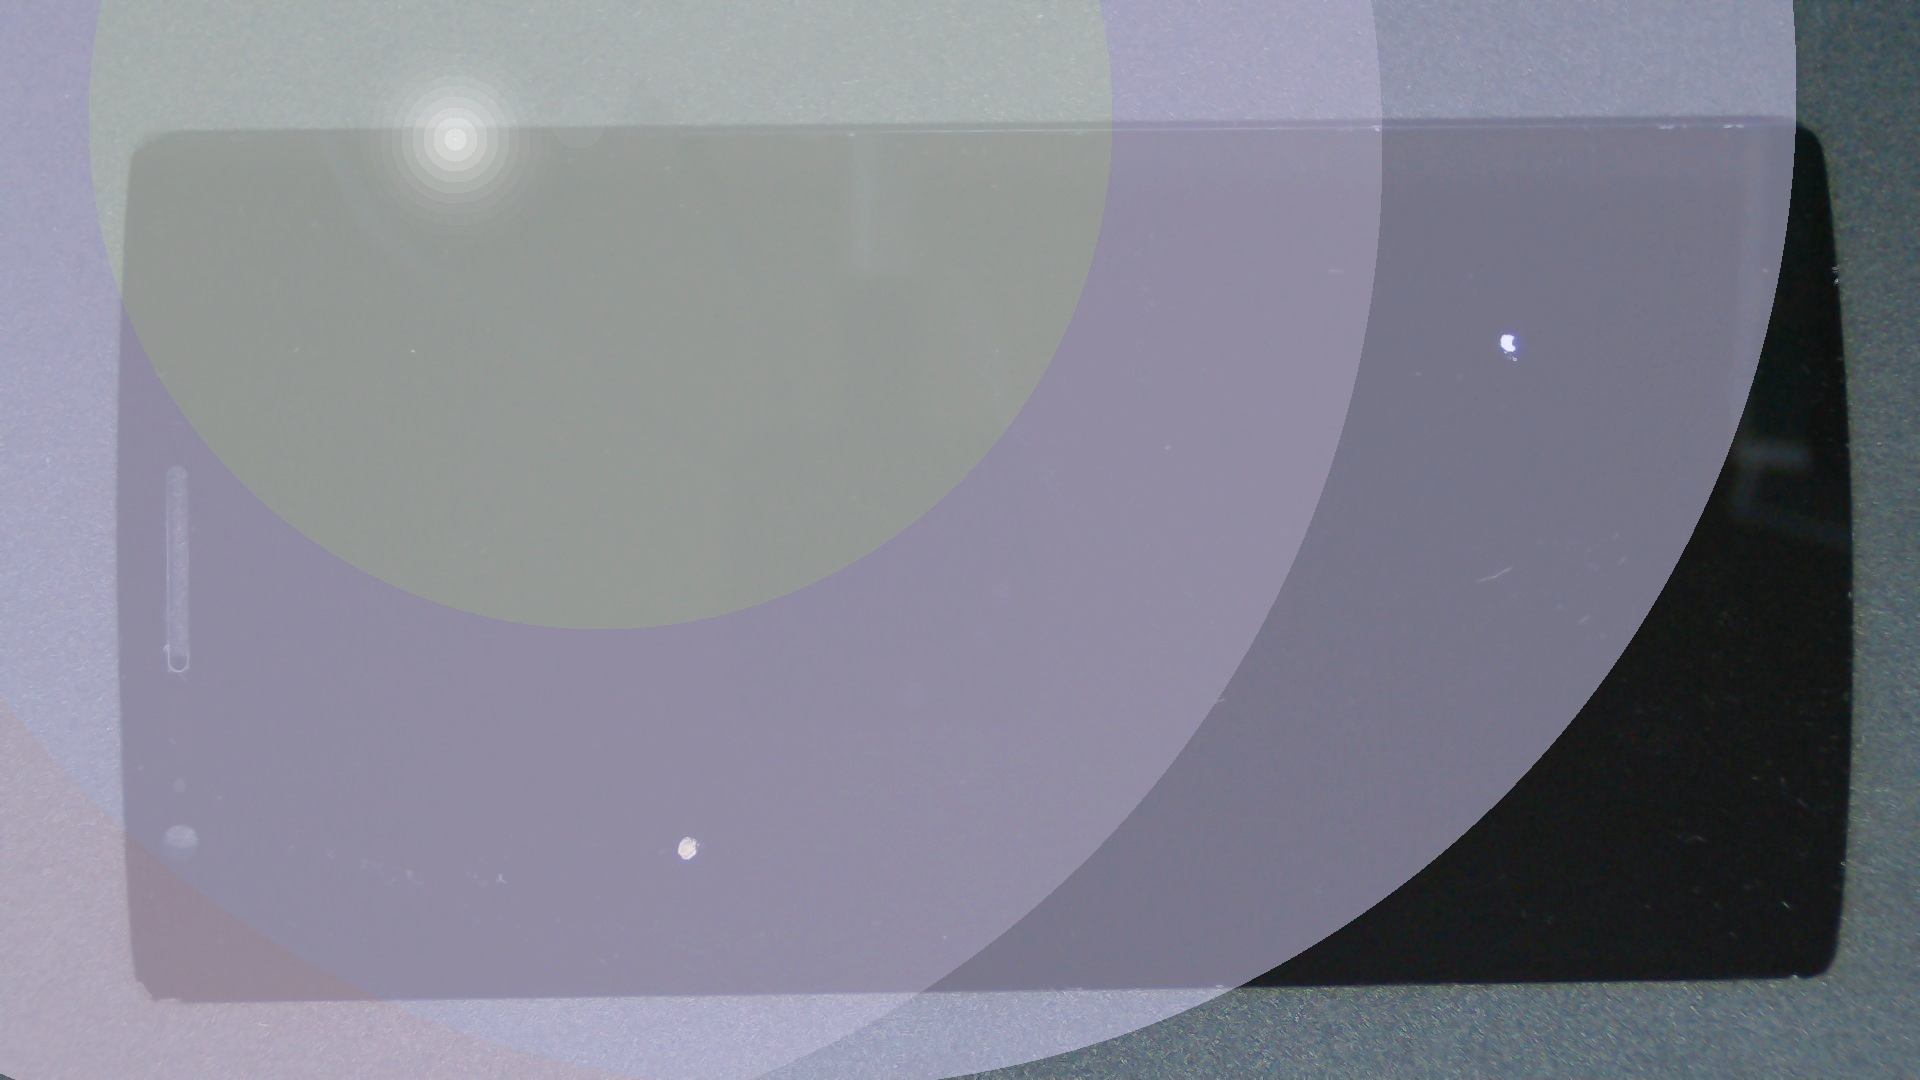oil: (344, 415, 1030, 1080), (756, 165, 1920, 497)
